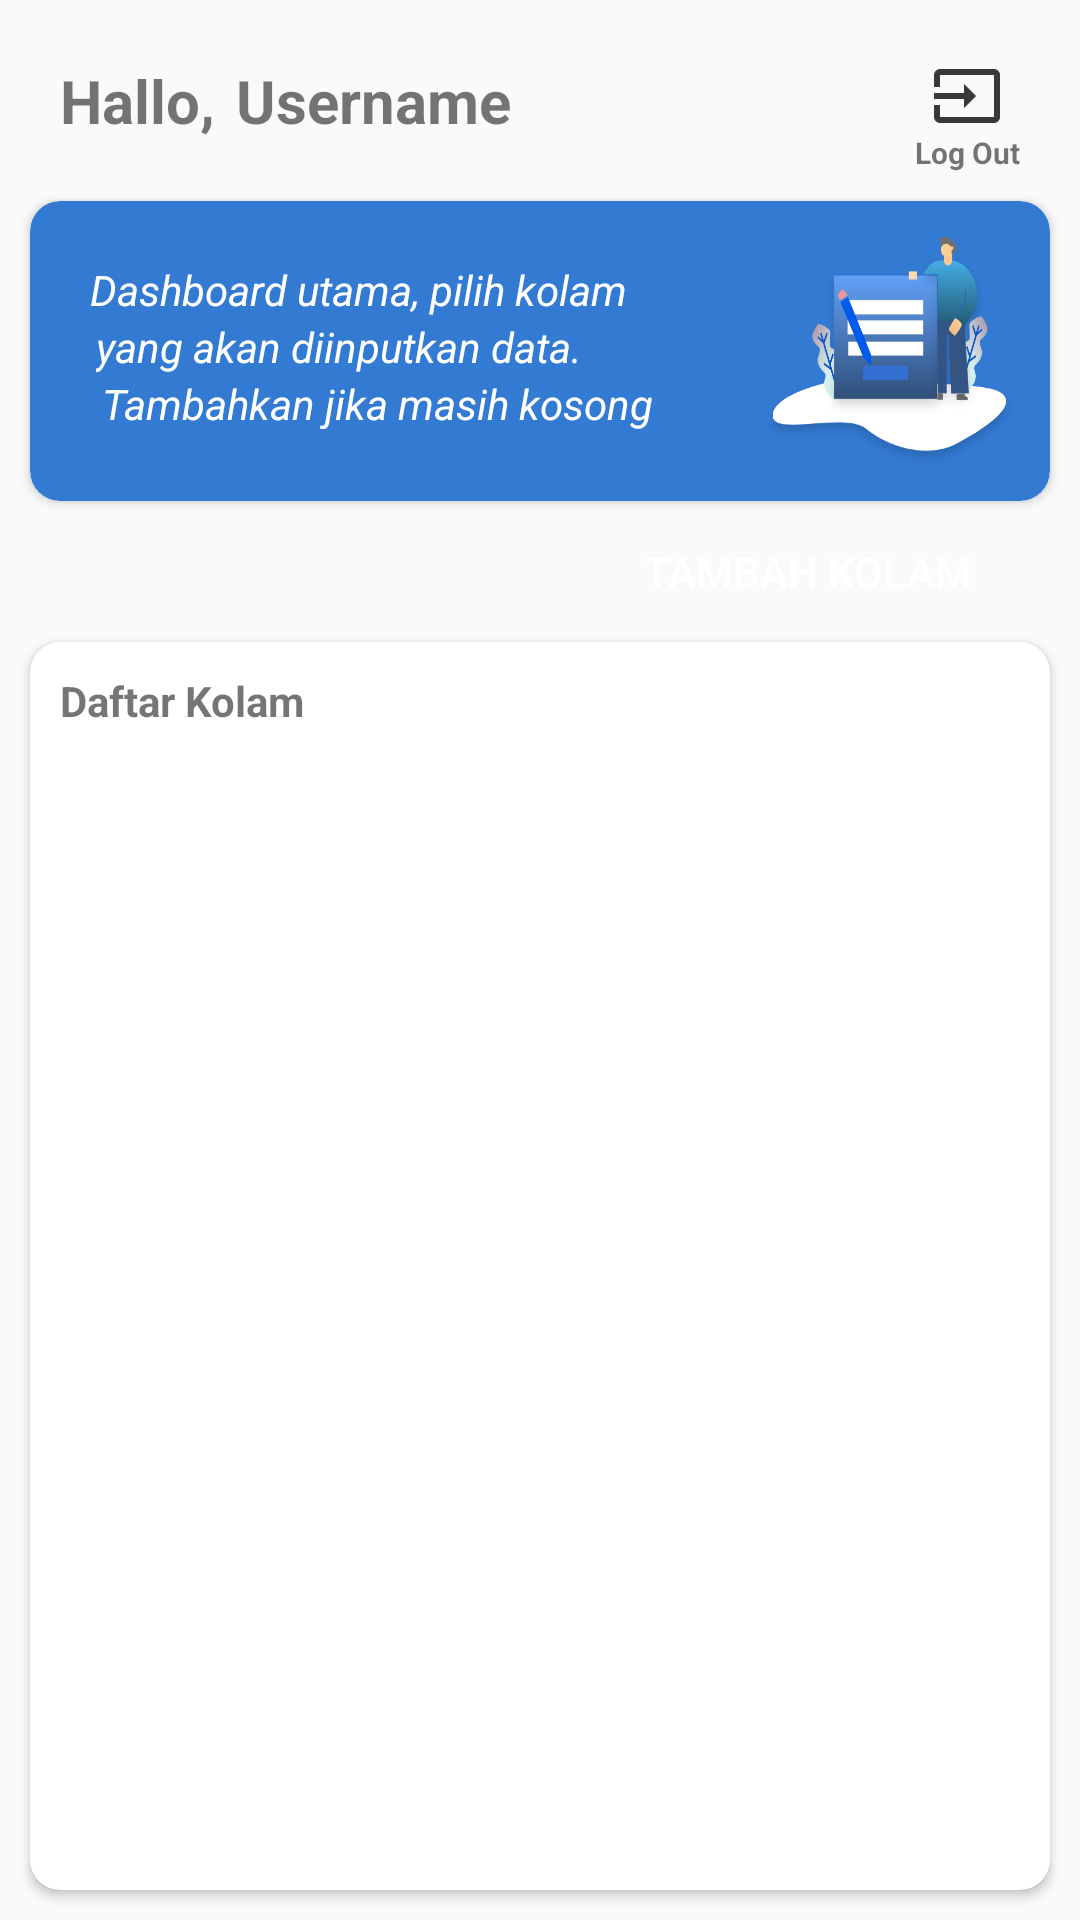

Icons on this 1080x1920 Android screen, each with the point to tap as [x,y]:
gambar: [889,345]
